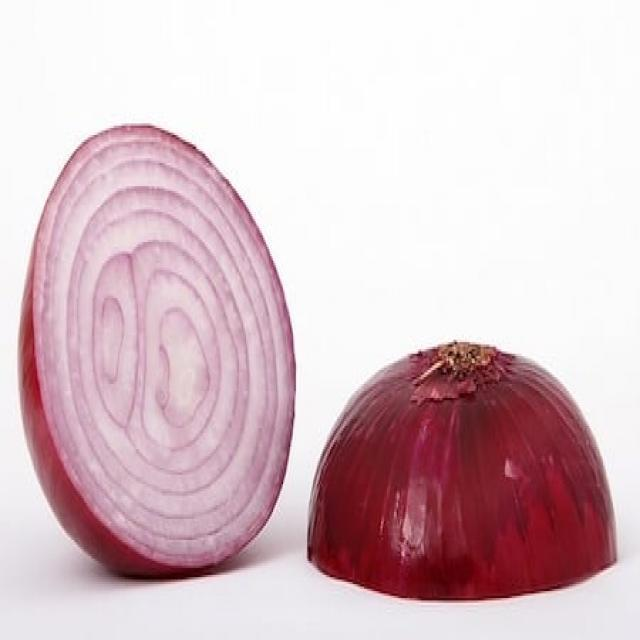onion: (16, 122, 298, 577), (307, 332, 619, 601)
